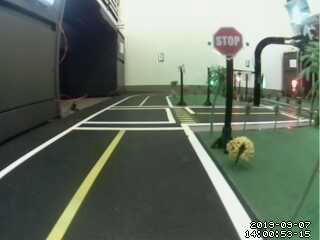Stop_Sign: (209, 26, 251, 64)
